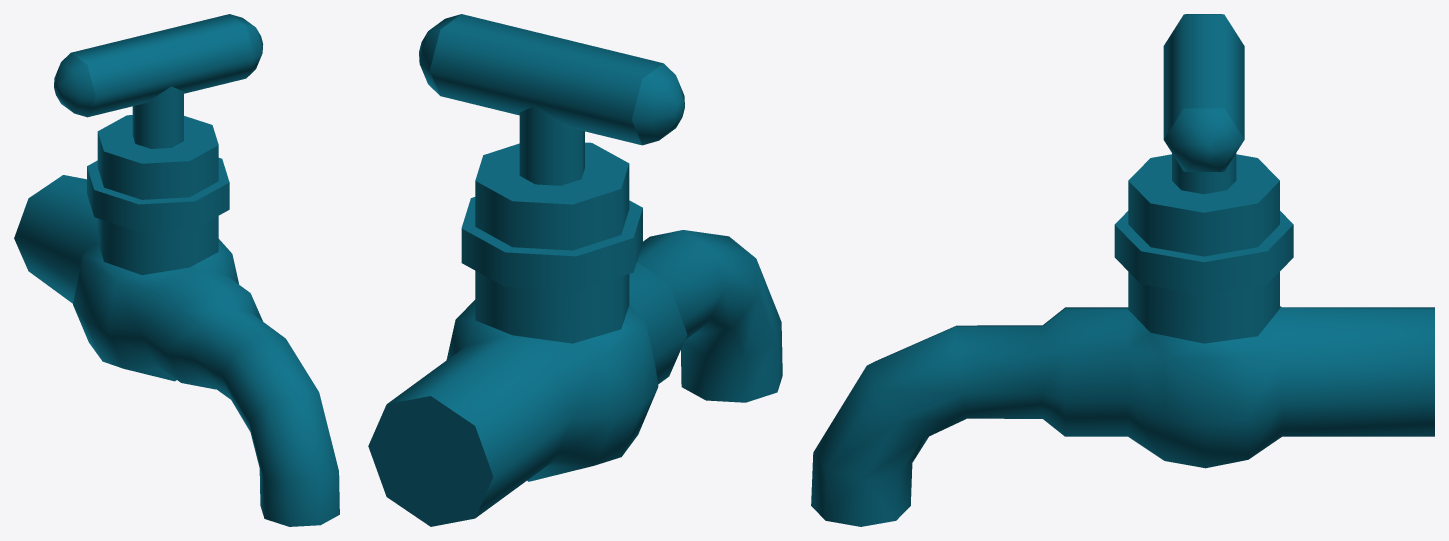
The model's file is Faucet_A_Snaps004.FBX.
The picture shows the model from 3 angles, left to right: view 1: azimuth 30°, elevation 25°; view 2: azimuth 150°, elevation 25°; view 3: azimuth 270°, elevation 25°; orthographic projection. The views are drawn at different scales.
Parts seen in each view (by area): view 1: Geometry_Faucet_A_LOD00; view 2: Geometry_Faucet_A_LOD00; view 3: Geometry_Faucet_A_LOD00.
Part boxes in pixels (left/top/right/bottom): Geometry_Faucet_A_LOD00: left=14, top=14, right=339, bottom=526; Geometry_Faucet_A_LOD00: left=368, top=14, right=782, bottom=526; Geometry_Faucet_A_LOD00: left=811, top=14, right=1434, bottom=526.
Size of what is drawn, in the model's own units: 7.21 by 12.58 by 15.99.
